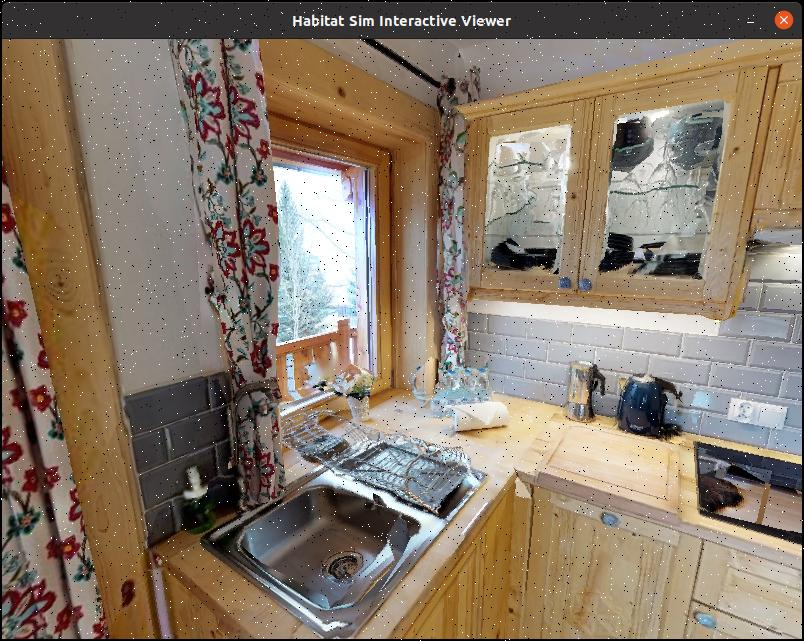sink: (164, 373, 482, 641)
